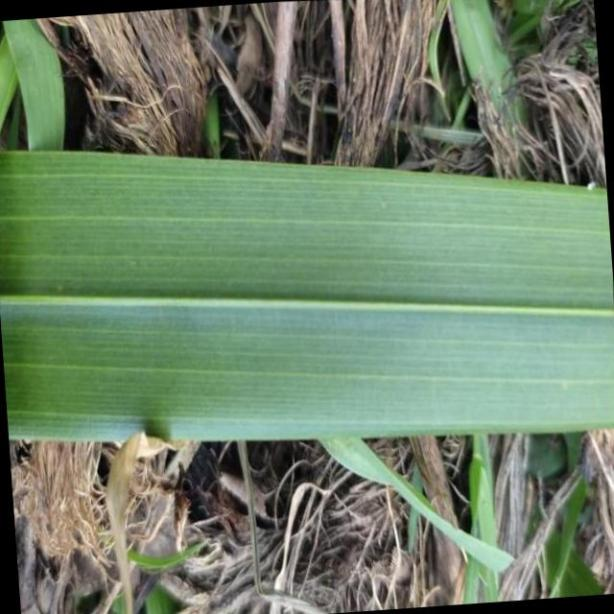Healthy: (0, 147, 614, 441)
